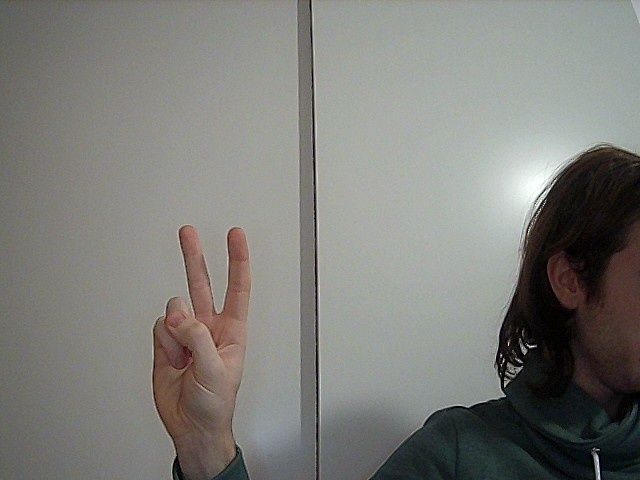v: (142, 220, 261, 433)
